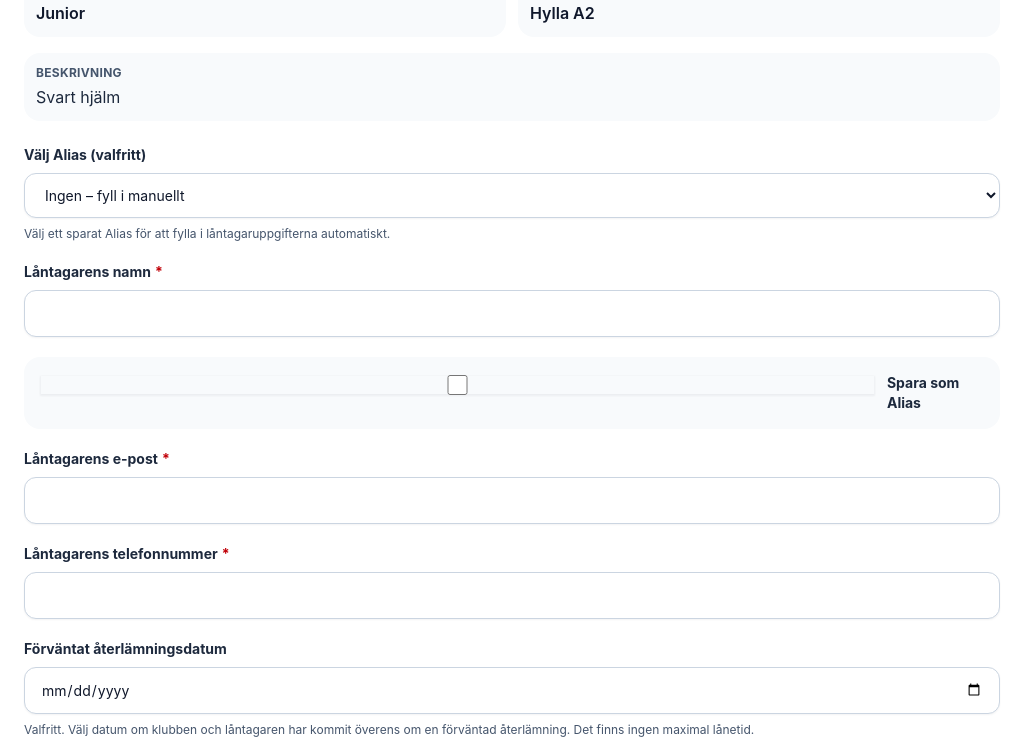
Test: LoanForm › shows alias name field only when save as alias is selected
(page scrolled)
Expected: the field labelled "aliasnamn" is not shown
Click the checkbox labelled "Spara som Alias": point(457, 385) [40, 375, 875, 395]
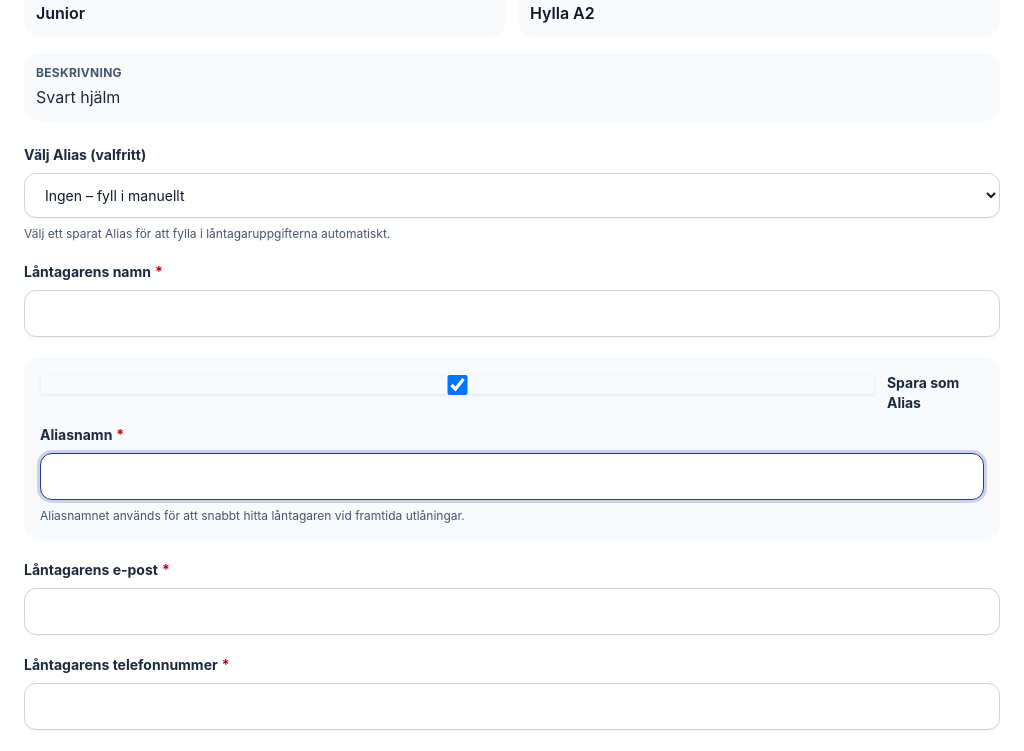
Expected: the field labelled "Aliasnamn*" is shown, [40, 453, 984, 500]
Click the checkbox labelled "Spara som Alias": point(457, 385) [40, 375, 875, 395]
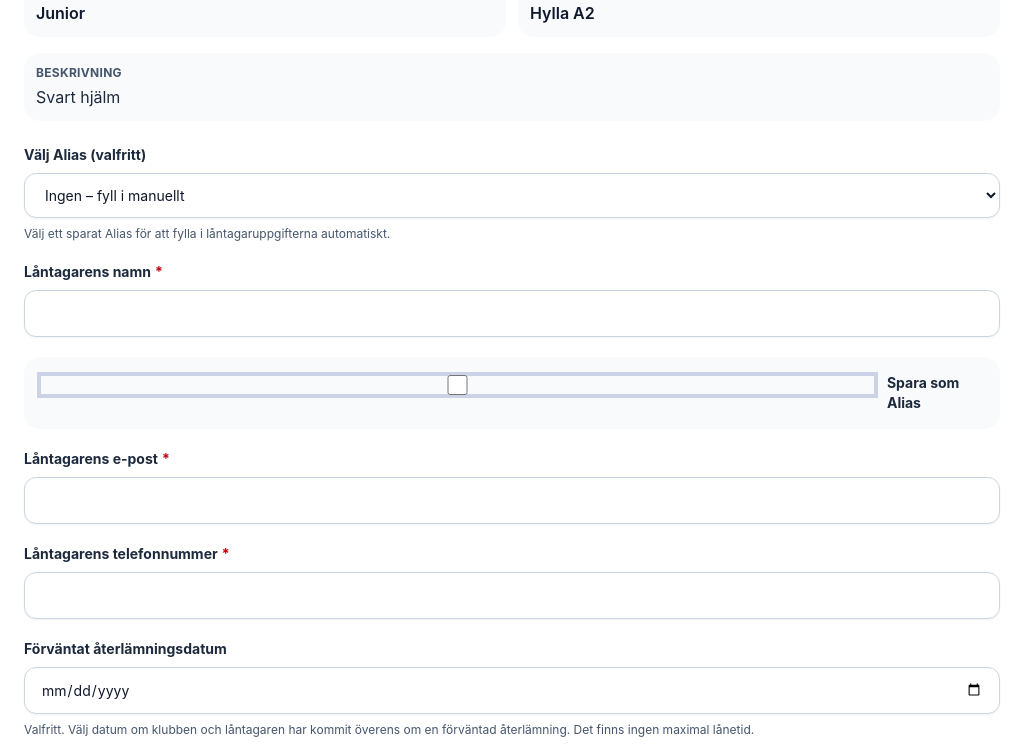
Expected: the label labelled "Aliasnamn" is gone
